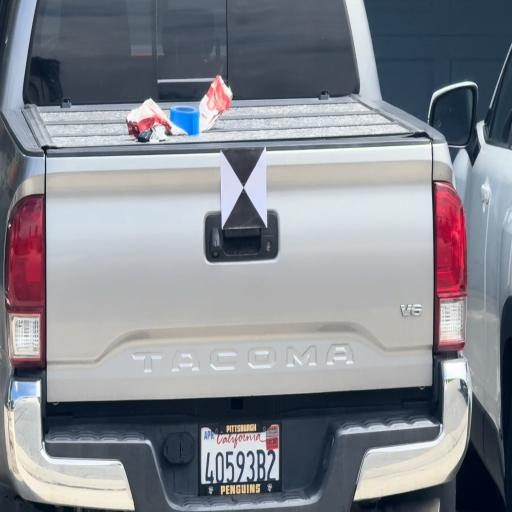target: (220, 149, 266, 228)
